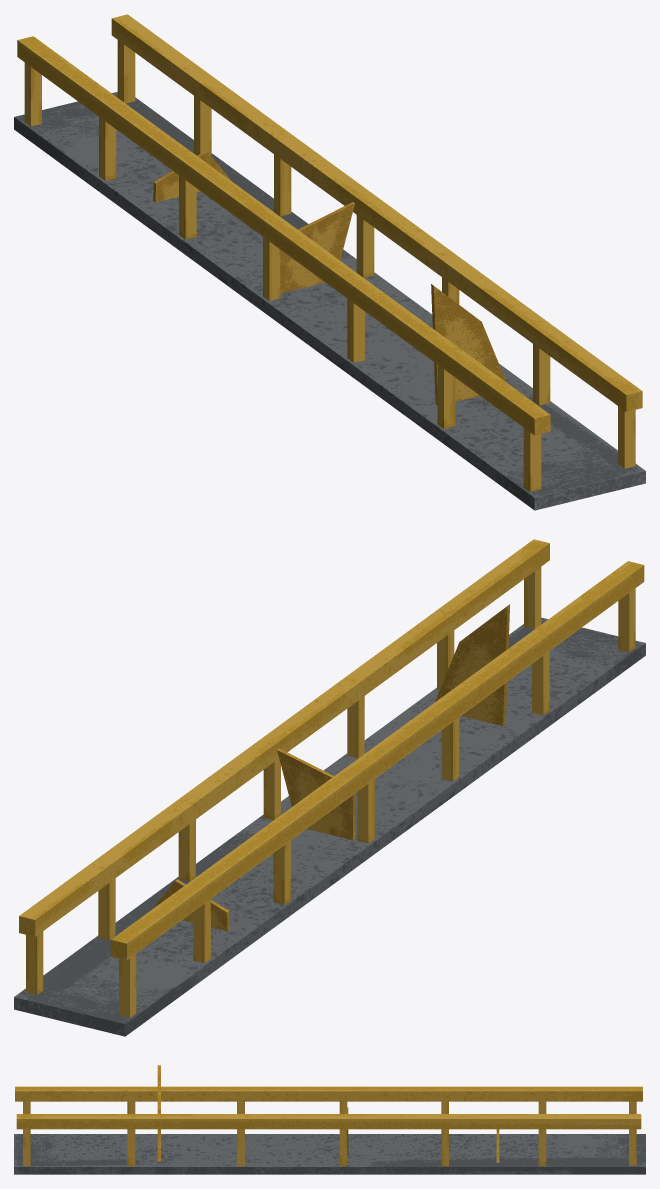
Rendered from catwalk.fbx.
The picture shows the model from 3 angles, top to bottom: view 1: azimuth 30°, elevation 25°; view 2: azimuth 150°, elevation 25°; view 3: azimuth 270°, elevation 25°; orthographic projection. The views are drawn at different scales.
Visible parts, largest first — view 1: pCube8, pCube10; view 2: pCube8, pCube10; view 3: pCube8, pCube10.
Part boxes in pixels (<box>): pCube8: <box>14,14,645,510</box>; pCube10: <box>153,150,506,405</box>; pCube8: <box>14,539,645,1036</box>; pCube10: <box>151,604,509,931</box>; pCube8: <box>14,1086,645,1174</box>; pCube10: <box>157,1065,499,1162</box>.
Size of the model in its own units: 441 by 585 by 3571.
